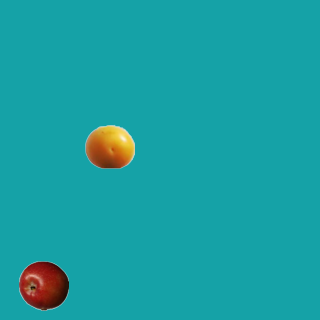Apple Braeburn: (18, 260, 68, 310)
Cherry Wax Yellow: (84, 121, 134, 171)
